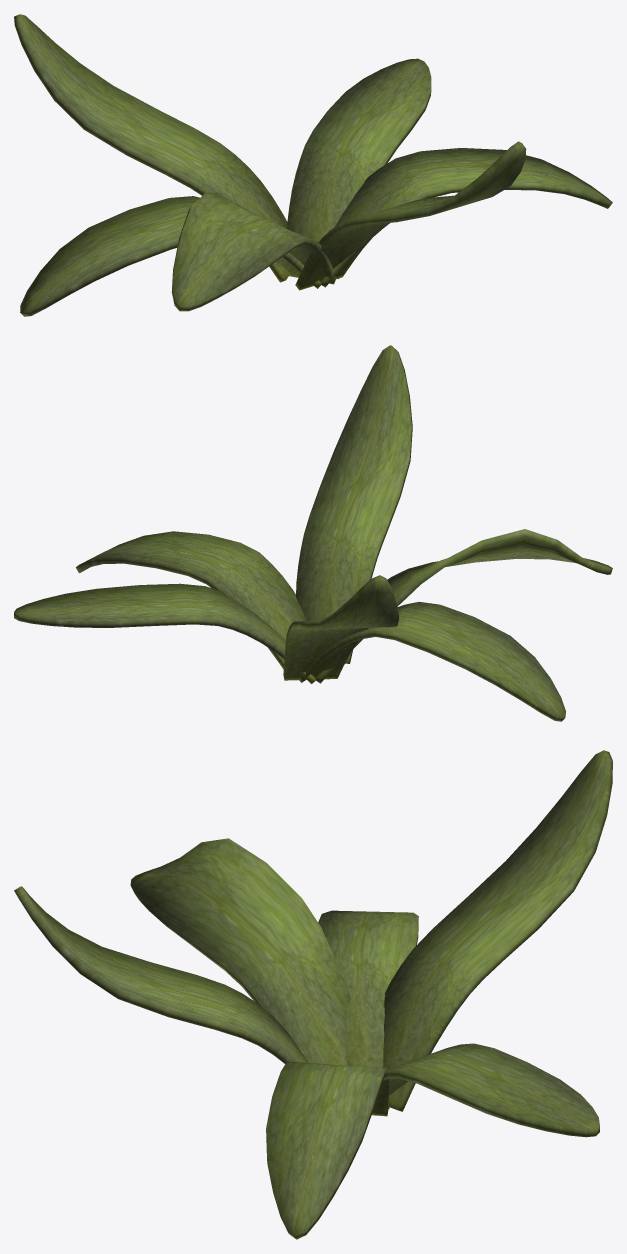
File: calyx2_sb3.dae
3 renders of one model, top to bottom at view 1: azimuth 30°, elevation 25°; view 2: azimuth 150°, elevation 25°; view 3: azimuth 270°, elevation 25°, orthographic. The views are drawn at different scales.
Visible parts, largest first — view 1: calyx2, calyx1, calyx4, calyx3, calyx3_001, calyx2_001; view 2: calyx2_001, calyx3, calyx1, calyx3_001, calyx2, calyx4; view 3: calyx4, calyx2, calyx3_001, calyx2_001, calyx1, calyx3.
Boxes of the visible parts, x1,y1,x2,y2 form: calyx2: (14, 14, 290, 282); calyx1: (286, 58, 431, 278); calyx4: (171, 192, 336, 311); calyx3: (20, 196, 321, 316); calyx3_001: (321, 148, 612, 287); calyx2_001: (295, 141, 526, 290); calyx2_001: (296, 345, 412, 663); calyx3: (299, 602, 565, 721); calyx1: (14, 583, 315, 683); calyx3_001: (76, 531, 306, 669); calyx2: (283, 575, 399, 680); calyx4: (315, 529, 612, 683); calyx4: (130, 838, 351, 1065); calyx2: (383, 750, 612, 1111); calyx3_001: (266, 1062, 389, 1239); calyx2_001: (14, 886, 308, 1063); calyx1: (383, 1043, 599, 1137); calyx3: (318, 910, 418, 1108).
Size of the model in its own units: 0.0883 by 0.0719 by 0.0345.
6 materials, 6 textured.
